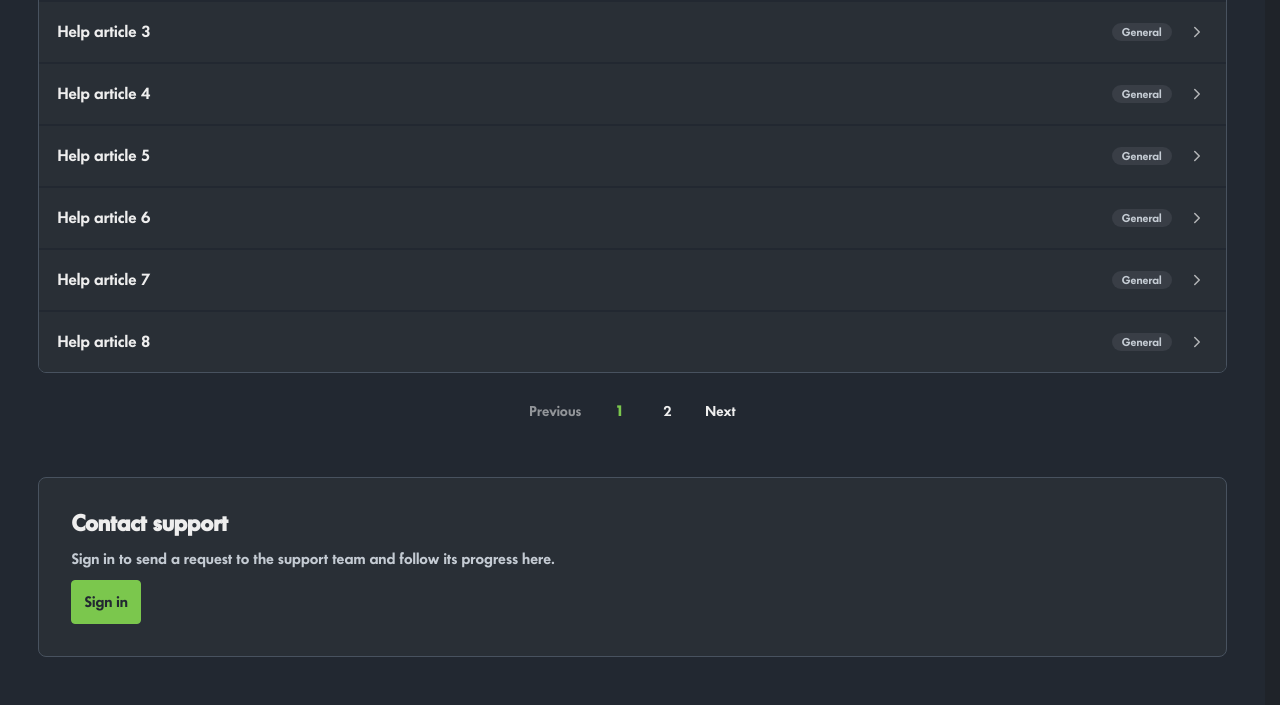
Test case: searches and paginates help articles through the backend
This screenshot has width=1280, height=705.
(page scrolled)
Click the button "Next" at (720, 411), box [697,393,744,429]
(page scrolled)
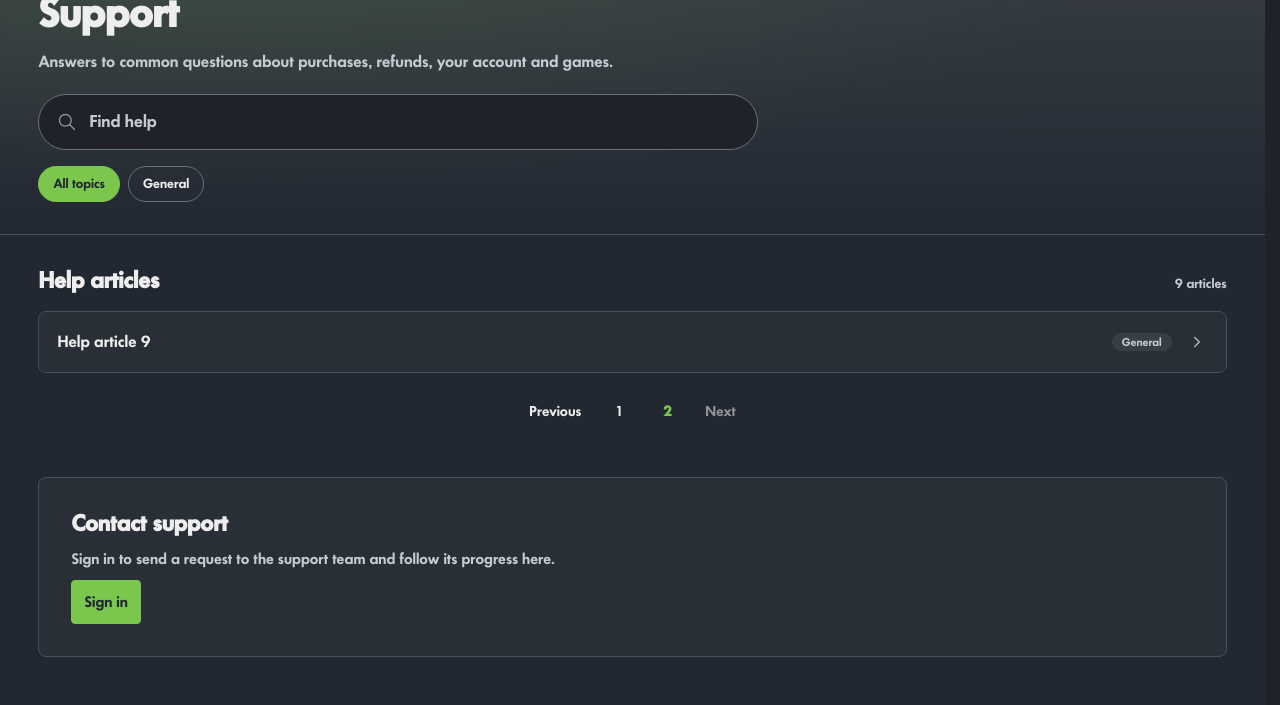
Now the button "Help article 9 General" is shown, box [39,312,1226,372]
Type "help article 3" into the search field labelled "Find help" at (414, 122), box [89,95,739,149]
(page scrolled)
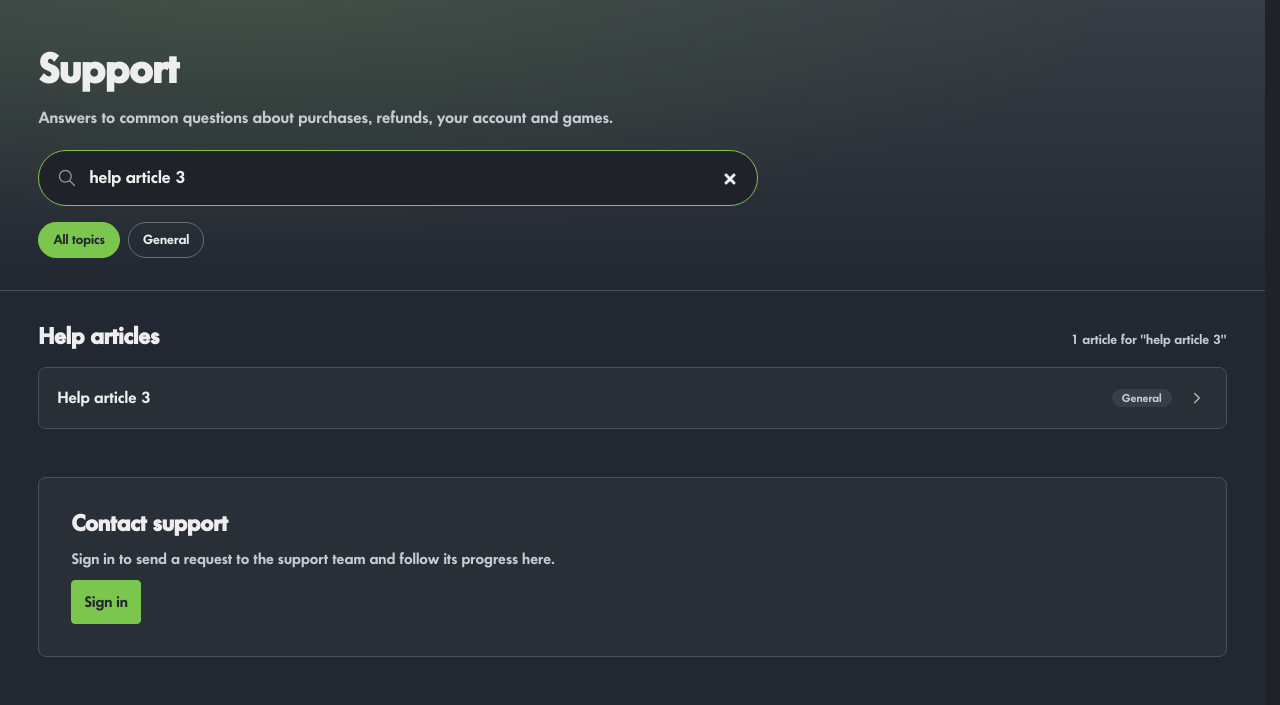
Now the button "Help article 3 General" is shown
Click the button "Help article 3 General" at (104, 398), box [39,368,1226,428]
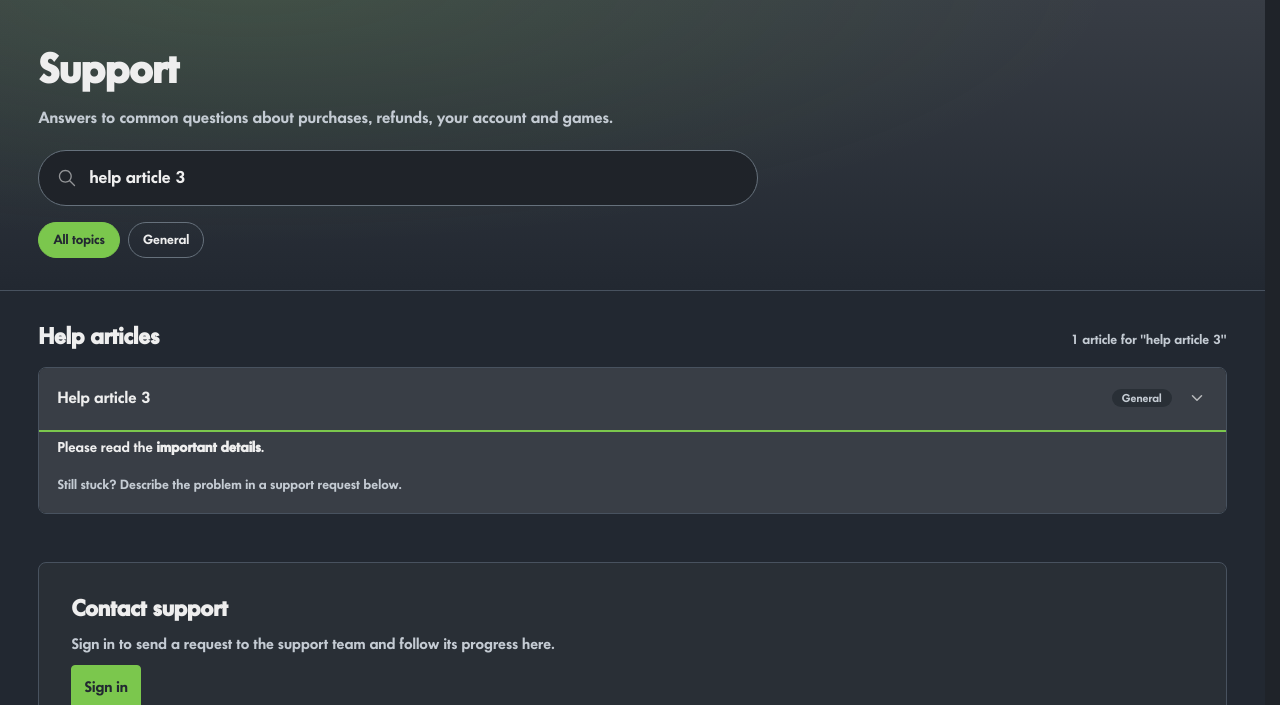
Now the text "important details" is shown, box [156,440,261,455]
